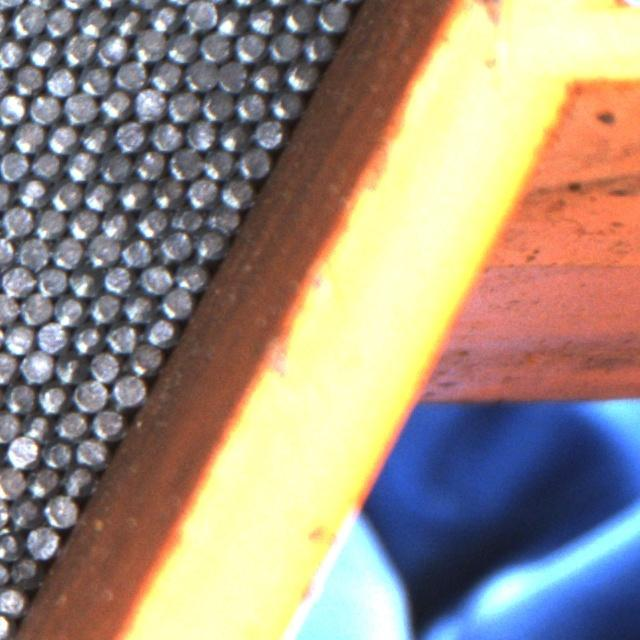tool: (72, 377, 107, 411), (168, 146, 202, 180), (183, 117, 217, 151), (64, 147, 98, 181), (114, 117, 148, 151), (201, 146, 235, 180), (218, 118, 252, 152), (7, 494, 41, 528), (111, 2, 145, 36), (76, 3, 110, 37), (285, 56, 319, 90), (52, 350, 86, 384), (43, 493, 77, 527), (156, 228, 191, 261), (112, 373, 146, 406), (46, 120, 79, 154), (17, 234, 50, 268), (185, 175, 219, 208), (20, 348, 53, 382), (237, 145, 271, 178), (89, 348, 122, 382), (98, 148, 131, 182), (198, 28, 231, 62), (82, 178, 116, 211), (184, 57, 217, 91), (149, 118, 182, 152), (132, 147, 166, 180), (36, 380, 70, 413), (33, 205, 66, 239), (19, 290, 52, 324), (70, 320, 103, 354), (11, 3, 44, 37), (62, 32, 96, 65), (91, 406, 125, 439), (48, 178, 82, 211), (86, 233, 120, 266), (132, 86, 165, 120), (138, 261, 172, 294), (3, 380, 37, 413), (151, 175, 184, 209), (102, 262, 136, 295), (54, 407, 88, 440), (2, 321, 36, 354), (11, 62, 44, 96), (26, 524, 59, 558), (174, 259, 208, 292), (300, 29, 334, 62), (43, 4, 76, 37), (149, 58, 182, 91), (114, 58, 147, 91), (117, 177, 150, 210), (233, 29, 266, 62), (217, 59, 250, 92), (267, 29, 300, 62), (15, 175, 48, 208), (147, 1, 180, 34), (120, 235, 153, 268), (250, 59, 283, 92), (132, 28, 165, 61), (80, 119, 113, 152), (136, 205, 169, 238), (5, 435, 38, 468), (165, 29, 198, 62), (51, 235, 84, 268), (247, 1, 280, 34), (26, 34, 59, 67), (98, 87, 131, 120), (200, 88, 233, 121), (214, 3, 247, 36), (166, 88, 199, 121), (61, 463, 94, 496), (25, 464, 58, 497), (78, 62, 111, 95), (27, 92, 60, 125), (88, 290, 121, 323), (235, 88, 268, 121), (269, 85, 302, 118), (282, 0, 316, 32), (67, 264, 101, 296), (52, 292, 84, 326), (74, 435, 108, 467), (99, 208, 133, 240), (12, 120, 45, 152), (66, 206, 99, 238), (36, 320, 68, 353), (30, 148, 63, 180), (96, 33, 128, 66), (170, 202, 203, 234), (44, 64, 77, 96), (63, 91, 96, 123), (193, 228, 225, 261), (0, 205, 32, 238), (34, 264, 67, 296), (221, 175, 253, 208), (122, 289, 154, 322), (0, 264, 33, 296), (105, 319, 138, 351), (144, 314, 176, 347), (127, 342, 160, 374), (41, 437, 73, 469), (8, 552, 40, 584), (160, 286, 192, 318), (252, 116, 284, 148), (318, 0, 351, 31), (21, 412, 54, 443), (206, 202, 239, 233), (182, 0, 214, 31), (0, 148, 29, 181), (0, 92, 26, 125), (0, 463, 24, 498), (0, 585, 26, 617), (0, 36, 25, 68), (0, 526, 23, 560), (0, 409, 20, 442), (0, 349, 18, 383), (0, 292, 17, 325), (0, 234, 15, 268), (0, 177, 13, 210)
